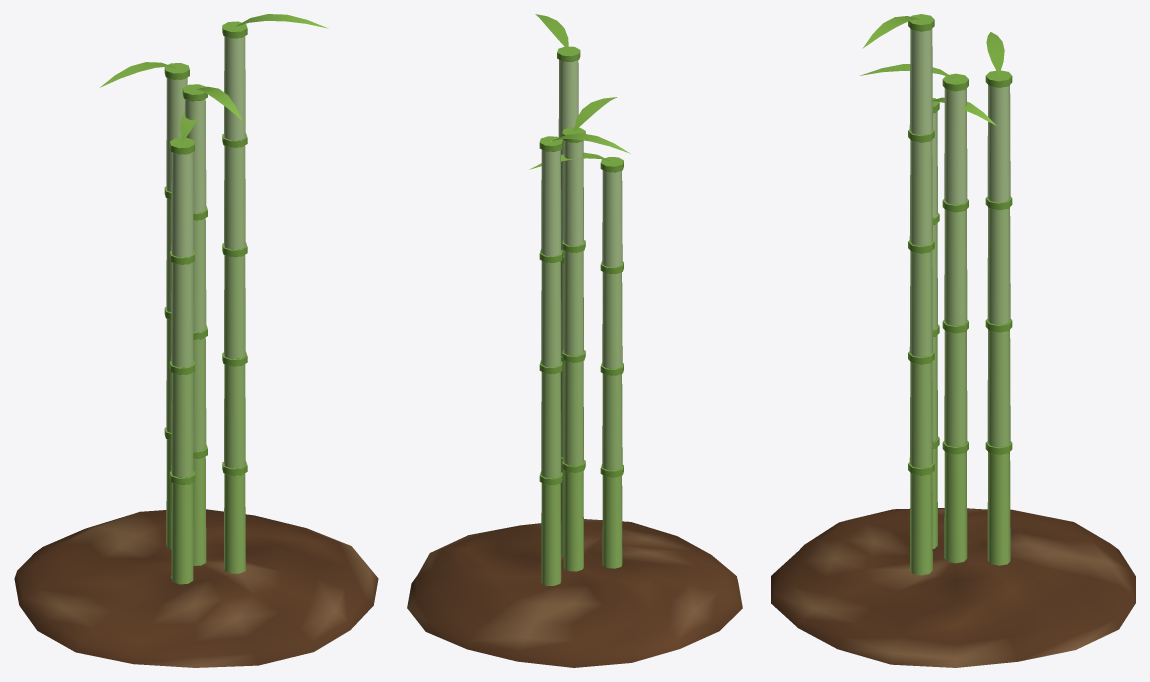
Rendered from plant-bamboo-3.gltf.
3 views of the same model, side by side, from view 1: azimuth 30°, elevation 25°; view 2: azimuth 150°, elevation 25°; view 3: azimuth 270°, elevation 25° (orthographic). The views are drawn at different scales.
Bounding box in the file's own units: 1.28 × 2.26 × 1.26.
